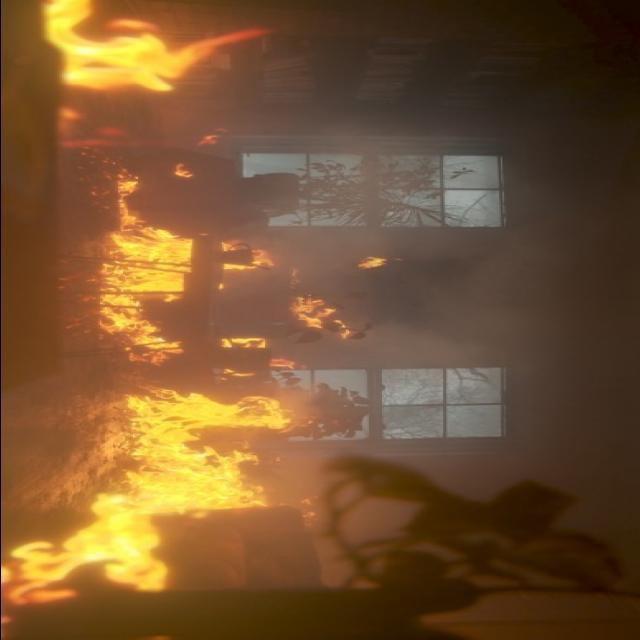Fire: (98, 237, 346, 366), (109, 382, 307, 514), (40, 2, 254, 94), (0, 499, 178, 605)
